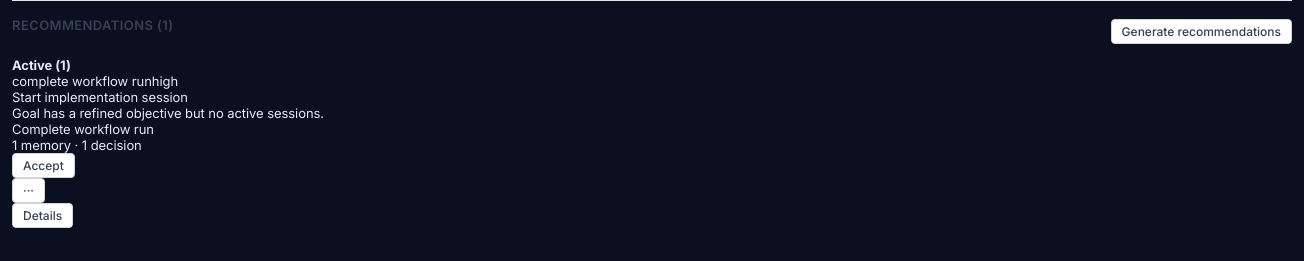
RecommendationsPanel › prefill: complete_workflow_run → shows a confirmation toast (not a silent no-op)
Click the button with class "recommendation-accept-button" at (43, 166), box [12,153,75,178]
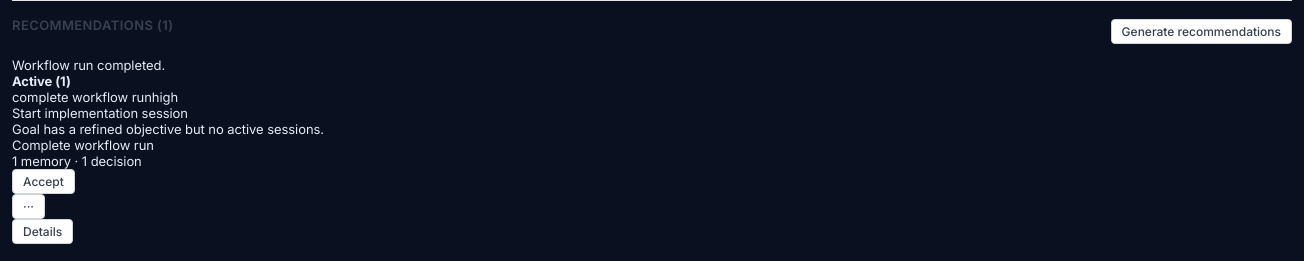
Check: the text "Workflow run completed" is shown, box [12,57,165,73]
